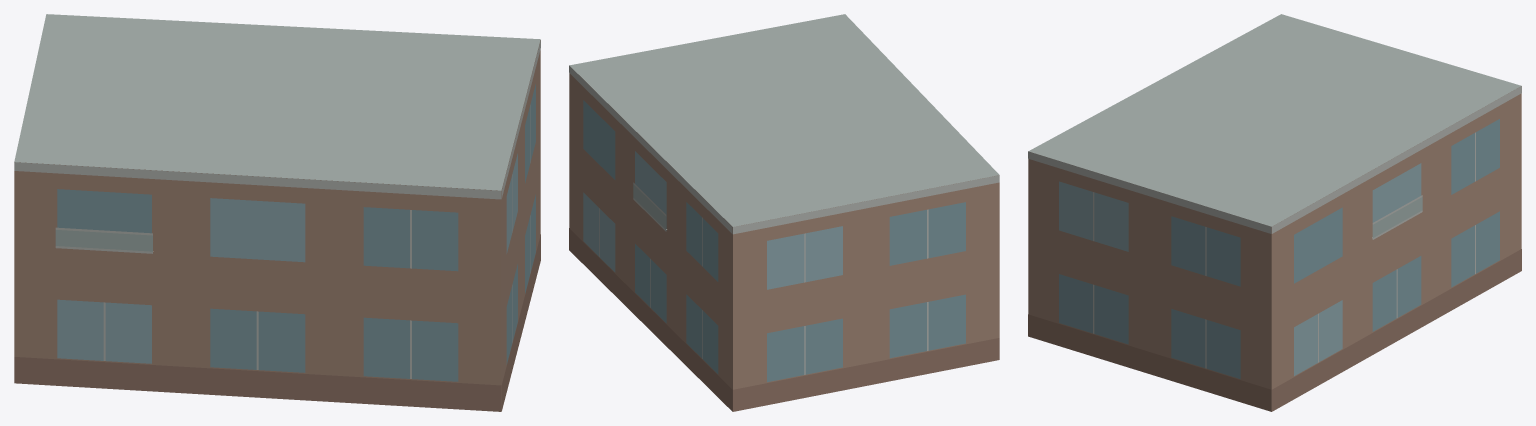
The model's file is survey-upis-32752330.glb.
The picture shows the model from 3 angles, left to right: view 1: azimuth 30°, elevation 25°; view 2: azimuth 150°, elevation 25°; view 3: azimuth 270°, elevation 25°; orthographic projection. The views are drawn at different scales.
Parts seen in each view (by area): view 1: survey-upis-32752330.tmp; view 2: survey-upis-32752330.tmp; view 3: survey-upis-32752330.tmp.
Part boxes in pixels (bbox=[...]): survey-upis-32752330.tmp: bbox=[14, 14, 540, 411]; survey-upis-32752330.tmp: bbox=[569, 14, 999, 411]; survey-upis-32752330.tmp: bbox=[1028, 14, 1521, 411].
Bounding box in the file's own units: 15.04 × 6.1 × 14.75.
